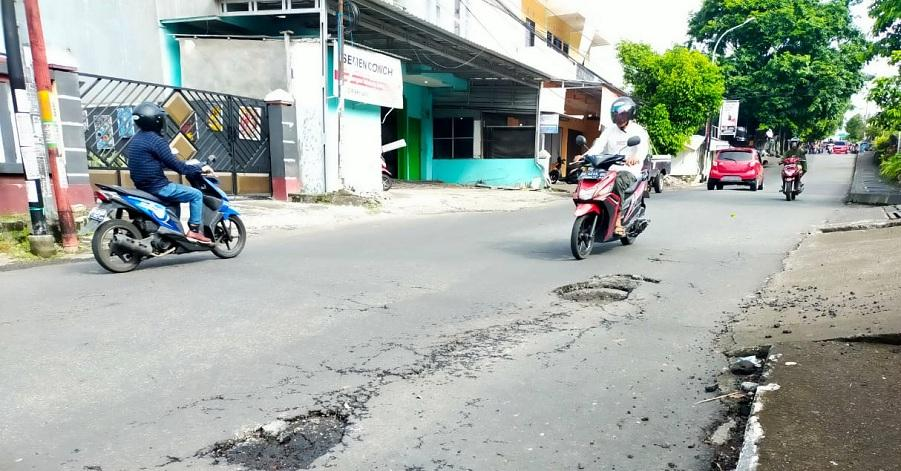Pothole: (163, 398, 432, 471), (512, 266, 672, 312)
